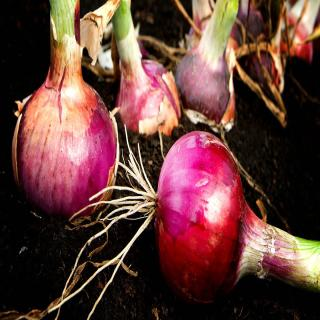Bawang Merah: (155, 130, 320, 307), (12, 1, 121, 221)
